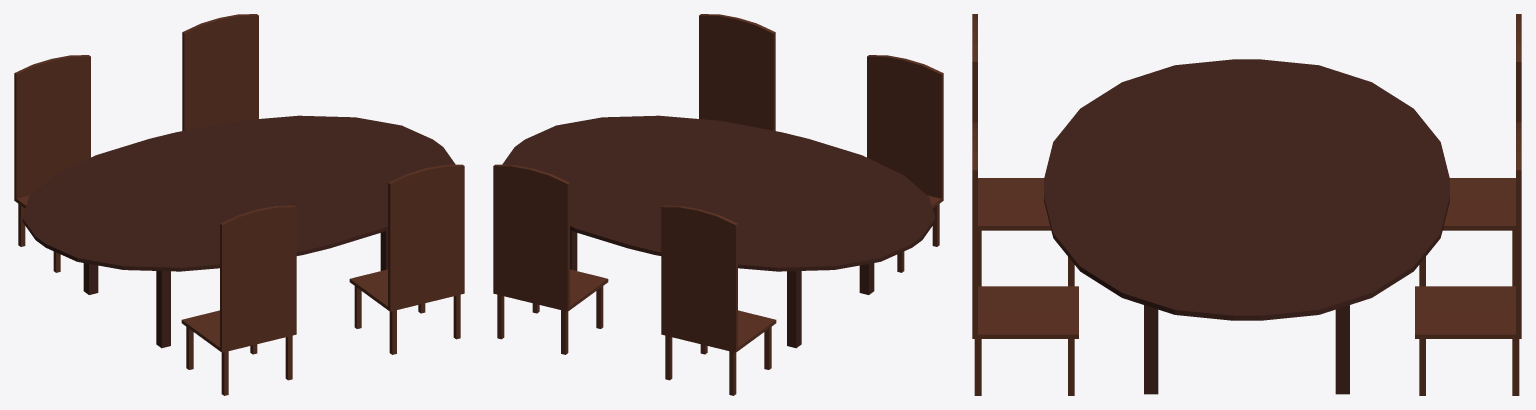
The model's file is comedor .fbx.
The picture shows the model from 3 angles, left to right: view 1: azimuth 30°, elevation 25°; view 2: azimuth 150°, elevation 25°; view 3: azimuth 270°, elevation 25°; orthographic projection. The views are drawn at different scales.
Parts seen in each view (by area): view 1: comedor; view 2: comedor; view 3: comedor.
Part boxes in pixels (x1,y1,x2,y2): comedor: (14, 14, 464, 395); comedor: (493, 14, 943, 395); comedor: (972, 14, 1521, 395).
Size of the model in its own units: 6.71 by 2.86 by 6.08.
